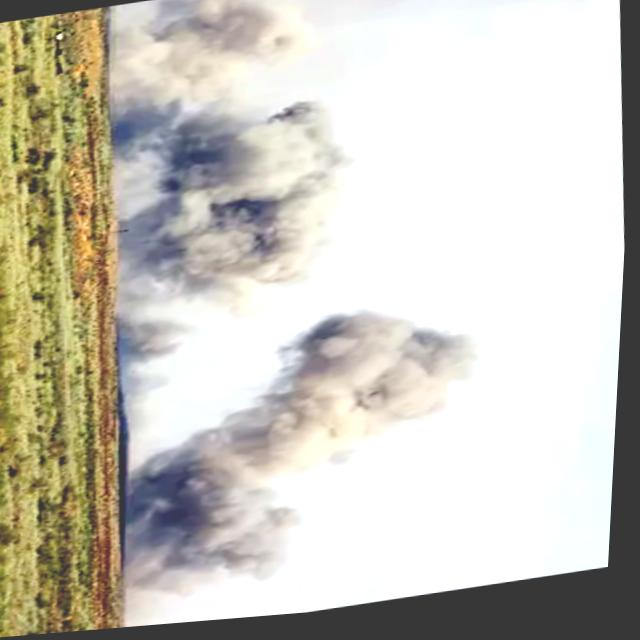no_helmet: (116, 301, 496, 606), (104, 113, 358, 367), (89, 0, 308, 146)
